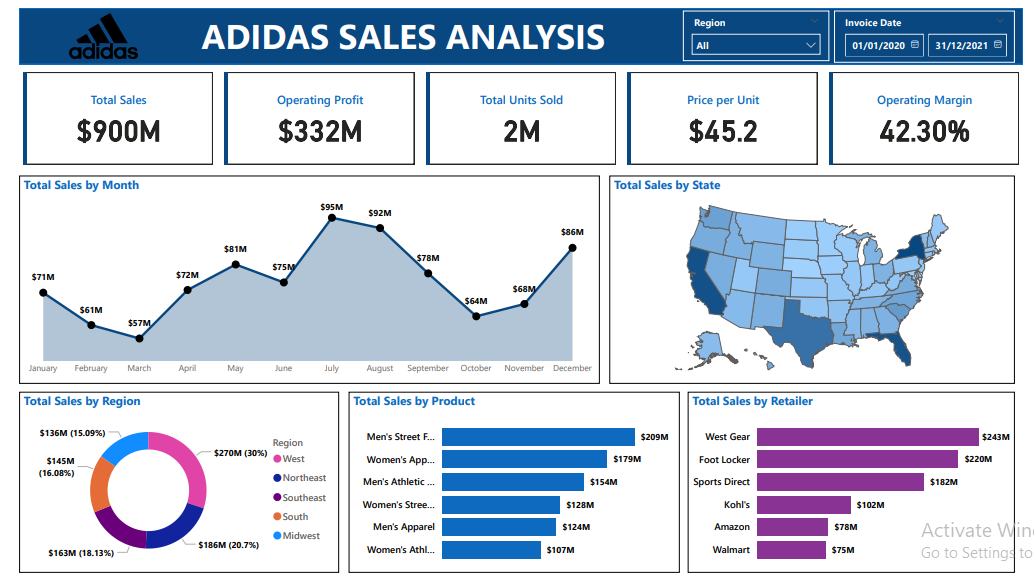

The page's visual inventory and layout, read from the dashboard file:
{"tool":"powerbi","page":{"name":"Page 1","canvas":[1280,720],"ordinal":0},"visuals":[{"type":"shape","box":[10,0,1255,70],"z":0},{"type":"textbox","box":[233.5,0,525.8,72.2],"z":1000},{"type":"cardVisual","fields":{"Data":["Sum(Data Sales Adidas.Total Sales)","Sum(Data Sales Adidas.Operating Profit)","Sum(Data Sales Adidas.Units Sold)","Avg(Data Sales Adidas.Price per Unit)","Avg(Data Sales Adidas.Operating Margin)"]},"box":[10.3,74.9,1254.9,124.9],"z":2000},{"type":"areaChart","title":"Total Sales by Month","fields":{"Category":["Data Sales Adidas.Invoice Date.Variation.Date Hierarchy.Month"],"Y":["Sum(Data Sales Adidas.Total Sales)"]},"box":[10.3,208.7,726,260.1],"z":3000},{"type":"shapeMap","title":"Total Sales by State","fields":{"Category":["Data Sales Adidas.State"],"Value":["Sum(Data Sales Adidas.Total Sales)"]},"box":[747.9,208.7,506.9,260.1],"z":3001},{"type":"donutChart","title":"Total Sales by Region","fields":{"Category":["Data Sales Adidas.Region"],"Y":["Sum(Data Sales Adidas.Total Sales)"]},"box":[10,479,400,226],"z":3002},{"type":"barChart","title":"Total Sales by Product","fields":{"Category":["Data Sales Adidas.Product"],"Y":["Sum(Data Sales Adidas.Total Sales)"]},"box":[421.7,479,414.4,226.3],"z":3003},{"type":"barChart","title":"Total Sales by Retailer","fields":{"Y":["Sum(Data Sales Adidas.Total Sales)"],"Category":["Data Sales Adidas.Retailer"]},"box":[846.4,479,408.5,226.3],"z":3004},{"type":"slicer","fields":{"Values":["Data Sales Adidas.Invoice Date"]},"box":[1028.6,2.9,226.3,64.7],"z":3005},{"type":"slicer","fields":{"Values":["Data Sales Adidas.Region"]},"box":[840.5,2.9,182.2,63.2],"z":3006},{"type":"image","box":[10.3,1.5,210.1,66.1],"z":3007}]}

Visuals, with their boxes in screenshot pixels (x1, y1, x2, y2):
shape: BBox(19, 5, 1019, 61)
textbox: BBox(197, 5, 616, 63)
cardVisual - Sum(Data Sales Adidas.Total Sales) x Sum(Data Sales Adidas.Operating Profit): BBox(19, 65, 1019, 165)
"Total Sales by Month" areaChart: BBox(19, 172, 597, 379)
"Total Sales by State" shapeMap: BBox(607, 172, 1010, 379)
"Total Sales by Region" donutChart: BBox(19, 387, 337, 567)
"Total Sales by Product" barChart: BBox(347, 387, 677, 567)
"Total Sales by Retailer" barChart: BBox(685, 387, 1010, 567)
slicer - Data Sales Adidas.Invoice Date: BBox(830, 8, 1010, 59)
slicer - Data Sales Adidas.Region: BBox(680, 8, 826, 58)
image: BBox(19, 7, 186, 59)
